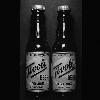beer: (27, 4, 52, 97)
